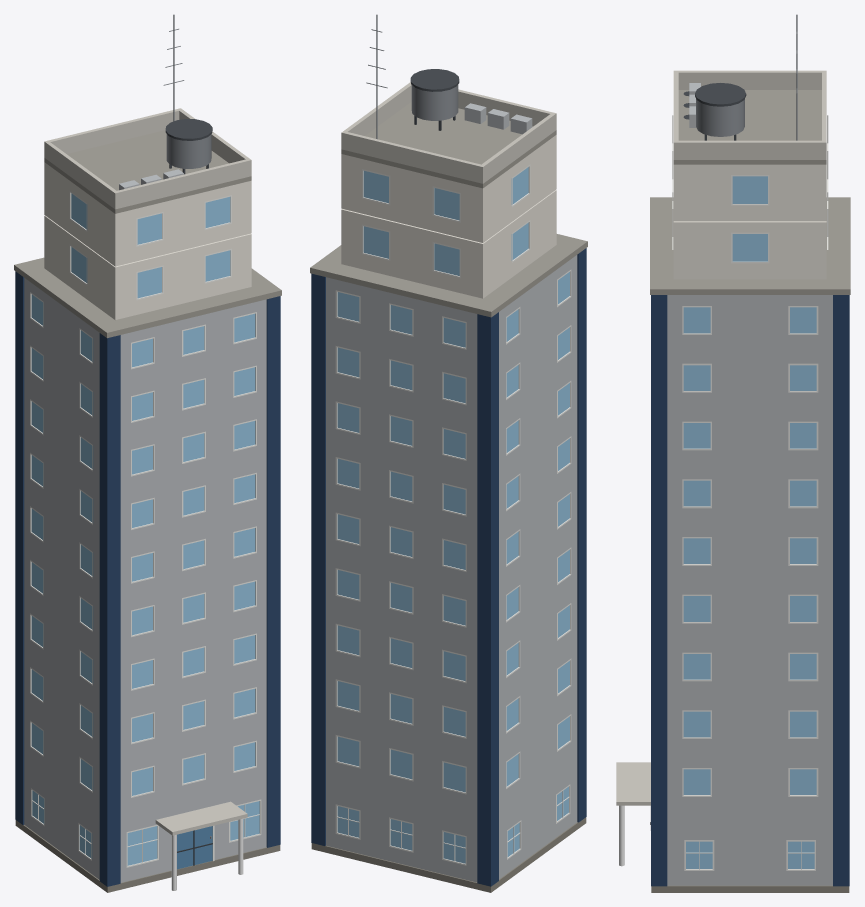
Rendered from predio-residencial-12.glb.
3 views of the same model, side by side, from view 1: azimuth 30°, elevation 25°; view 2: azimuth 150°, elevation 25°; view 3: azimuth 270°, elevation 25° (orthographic). The views are drawn at different scales.
Visible parts, largest first — view 1: Paredes, Detalhes, Telhado, VidroLuz, Vidro, Molduras; view 2: Paredes, Detalhes, Vidro, Telhado, Molduras, VidroLuz; view 3: Paredes, Detalhes, Telhado, Vidro, VidroLuz, Molduras.
Part boxes in pixels (x1,y1,x2,y2): Paredes: [15, 162, 280, 892]; Detalhes: [15, 14, 280, 890]; Telhado: [14, 108, 281, 338]; VidroLuz: [31, 193, 259, 869]; Vidro: [31, 213, 255, 865]; Molduras: [30, 191, 261, 867]; Paredes: [311, 135, 586, 892]; Detalhes: [311, 14, 586, 886]; Vidro: [337, 171, 569, 863]; Telhado: [310, 82, 587, 317]; Molduras: [335, 164, 571, 865]; VidroLuz: [337, 167, 569, 856]; Paredes: [651, 164, 849, 892]; Detalhes: [616, 14, 849, 886]; Telhado: [650, 70, 850, 294]; Vidro: [683, 234, 816, 868]; VidroLuz: [683, 176, 816, 868]; Molduras: [650, 115, 828, 870].
Size of the model in its own units: 10.24 by 44.6 by 11.02.
